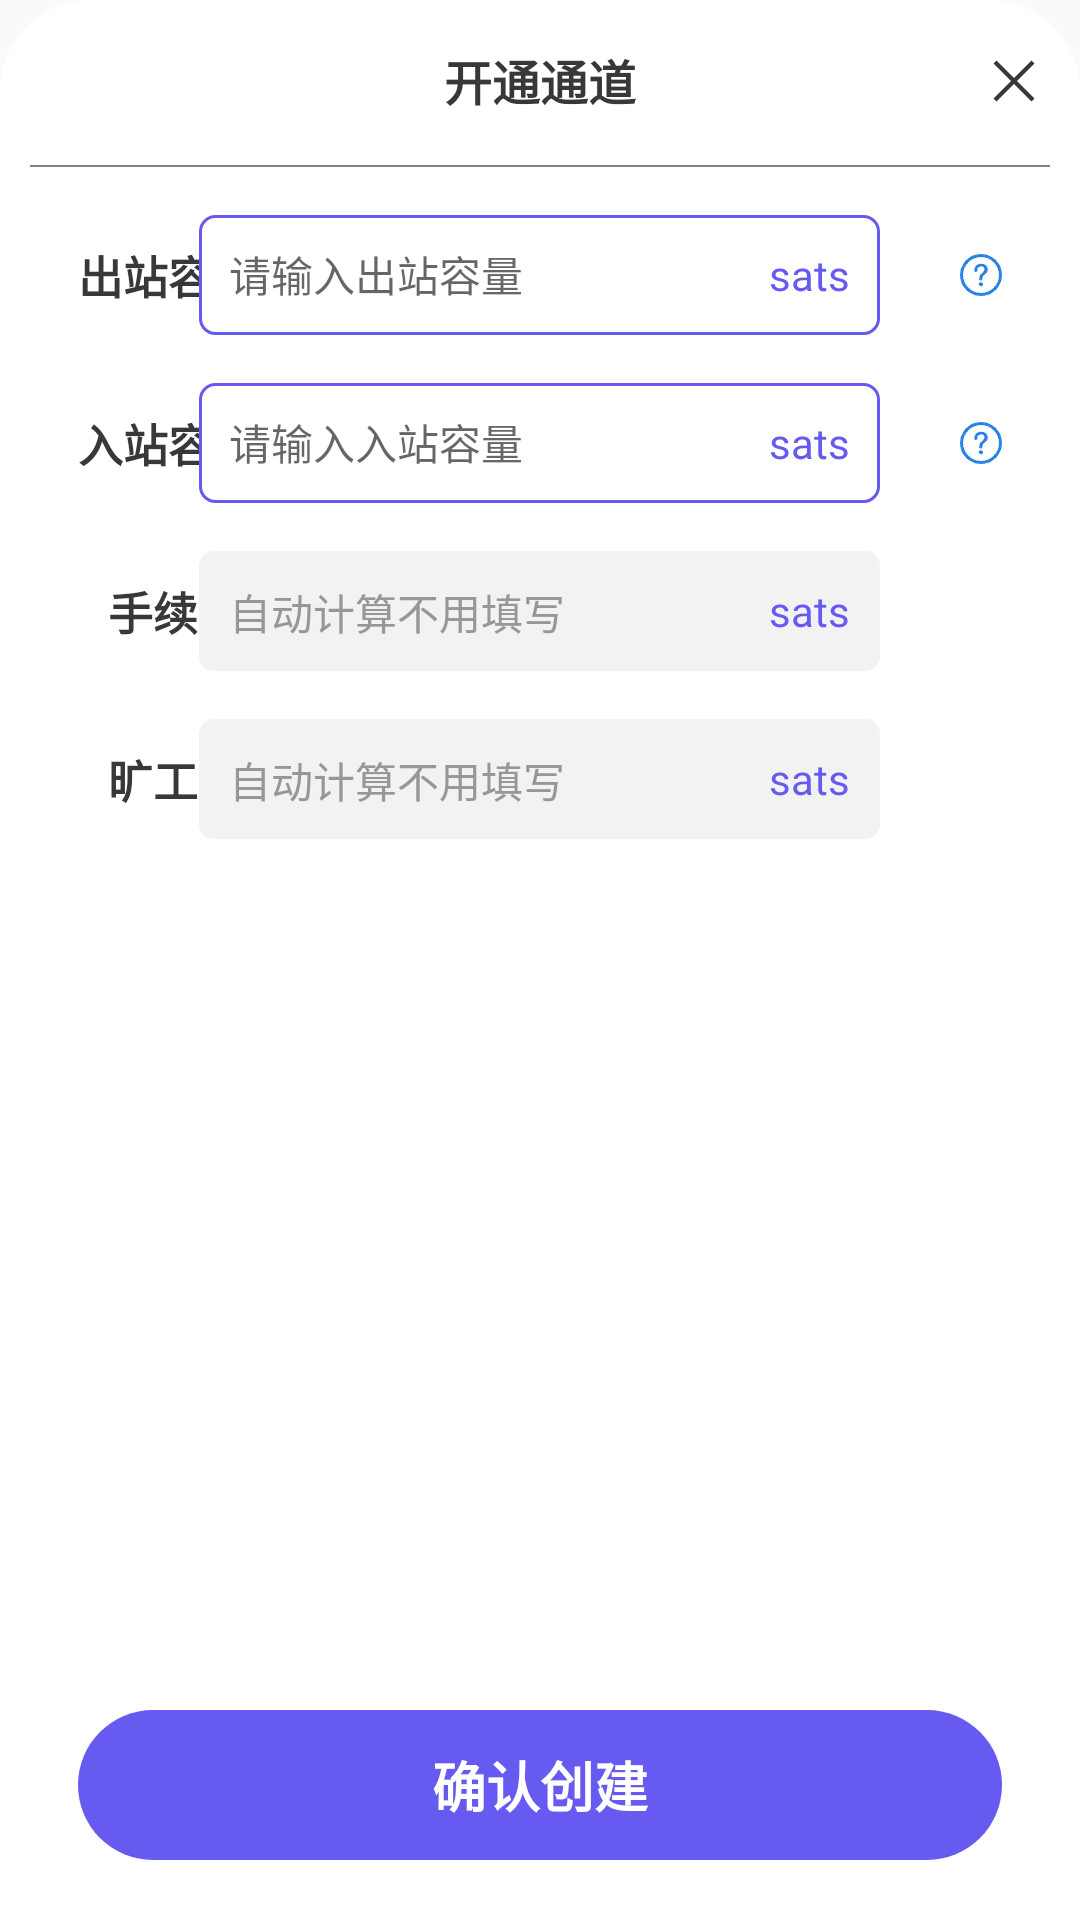

Where icons sit on this 1080×1920 app screen, as (x1, y1, x2, y2):
close: (993, 60, 1035, 102)
query: (960, 254, 1002, 296), (960, 422, 1002, 464)
